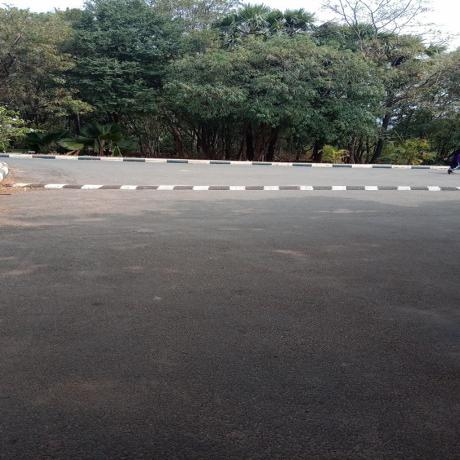Speed Bump: (3, 182, 459, 190)
